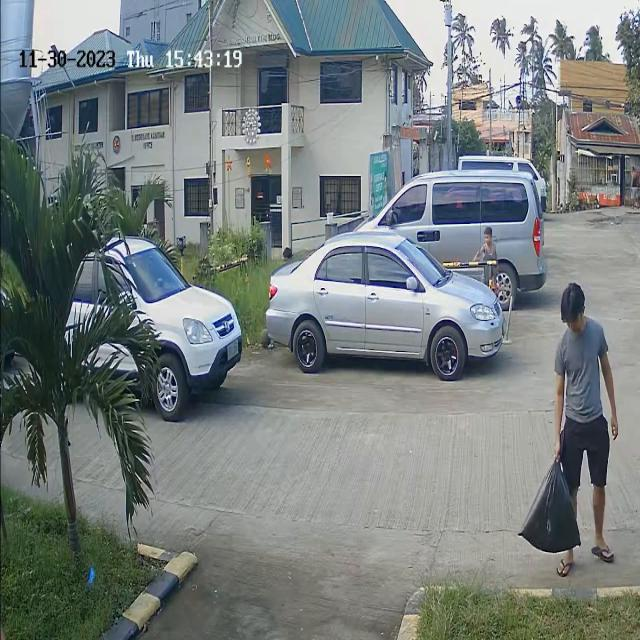garbage: (520, 444, 588, 554)
person: (553, 282, 614, 400)
